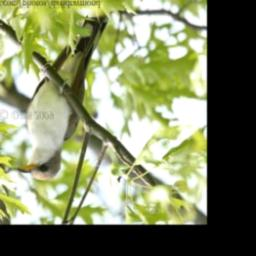Cuckoo: (16, 11, 107, 183)
